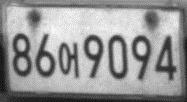0: (107, 35, 128, 79)
4: (153, 34, 177, 81)
6: (34, 32, 56, 78)
8: (12, 33, 32, 77)
9: (82, 34, 104, 79), (131, 34, 152, 81)
어: (57, 41, 80, 80)
